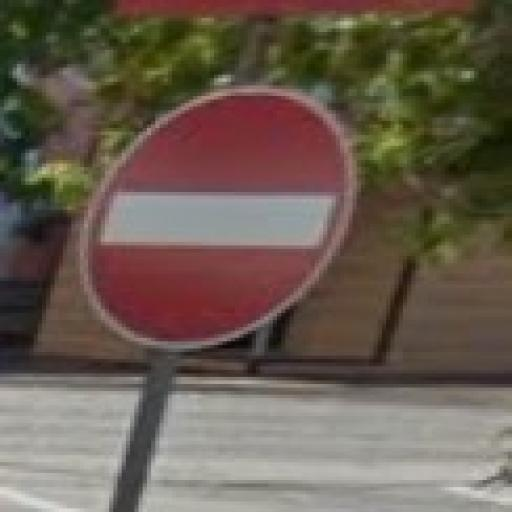traffic_sign: (77, 87, 358, 350)
